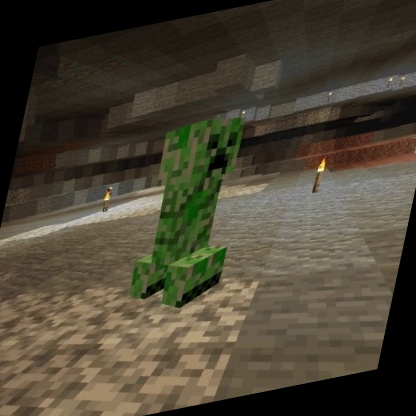creeper: (120, 105, 261, 323)
